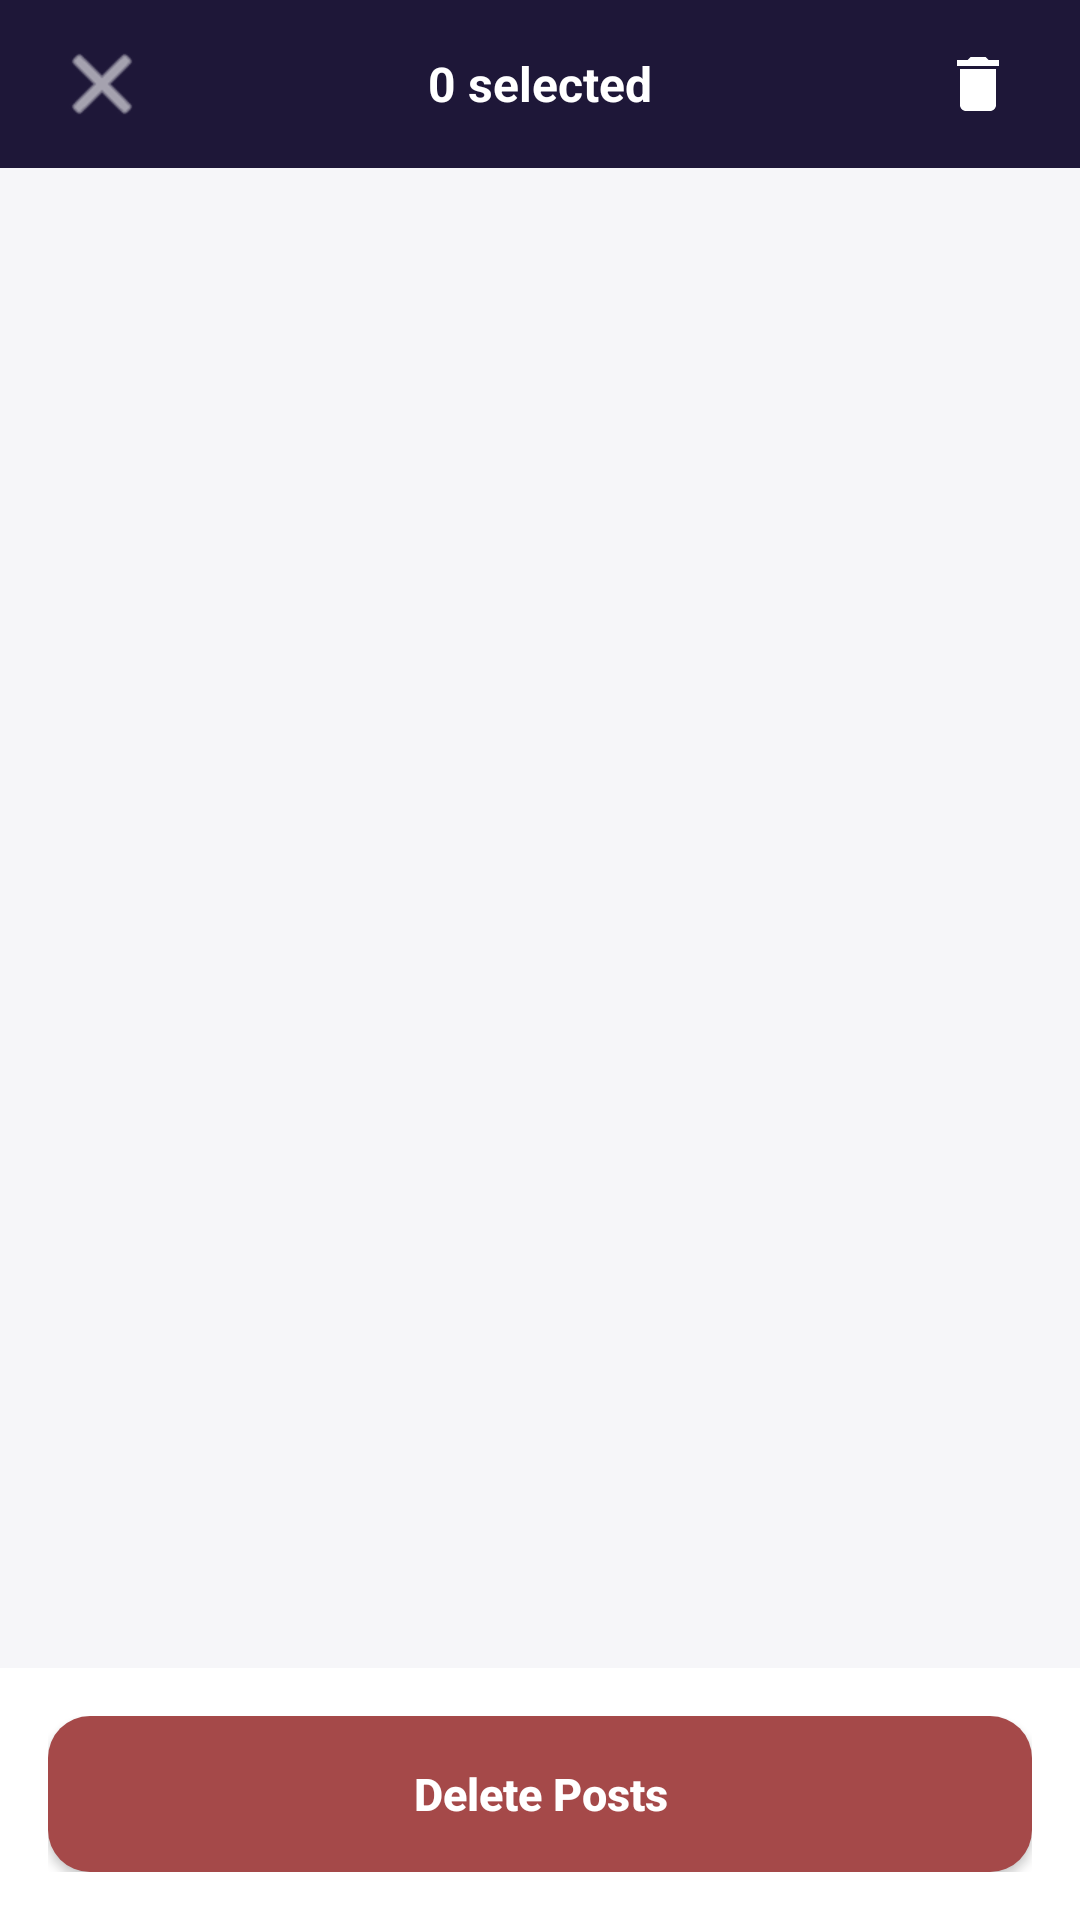

Where to tap for icons on this 1080px×1920px app screen, as point (x, y):
close clear cancel: point (102, 84)
delete: point (978, 84)
